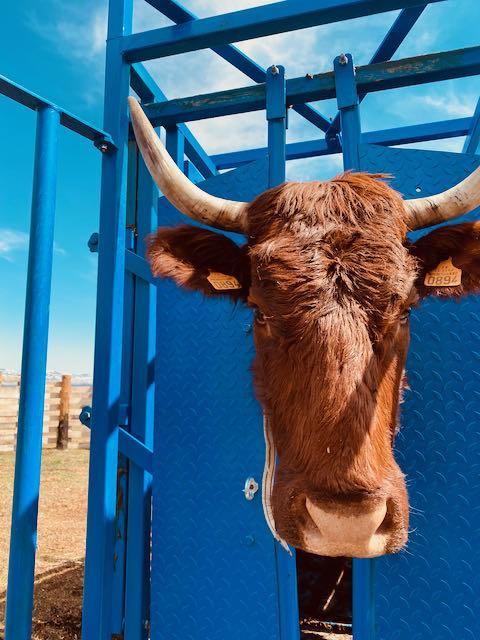muzzles: (257, 478, 418, 563)
